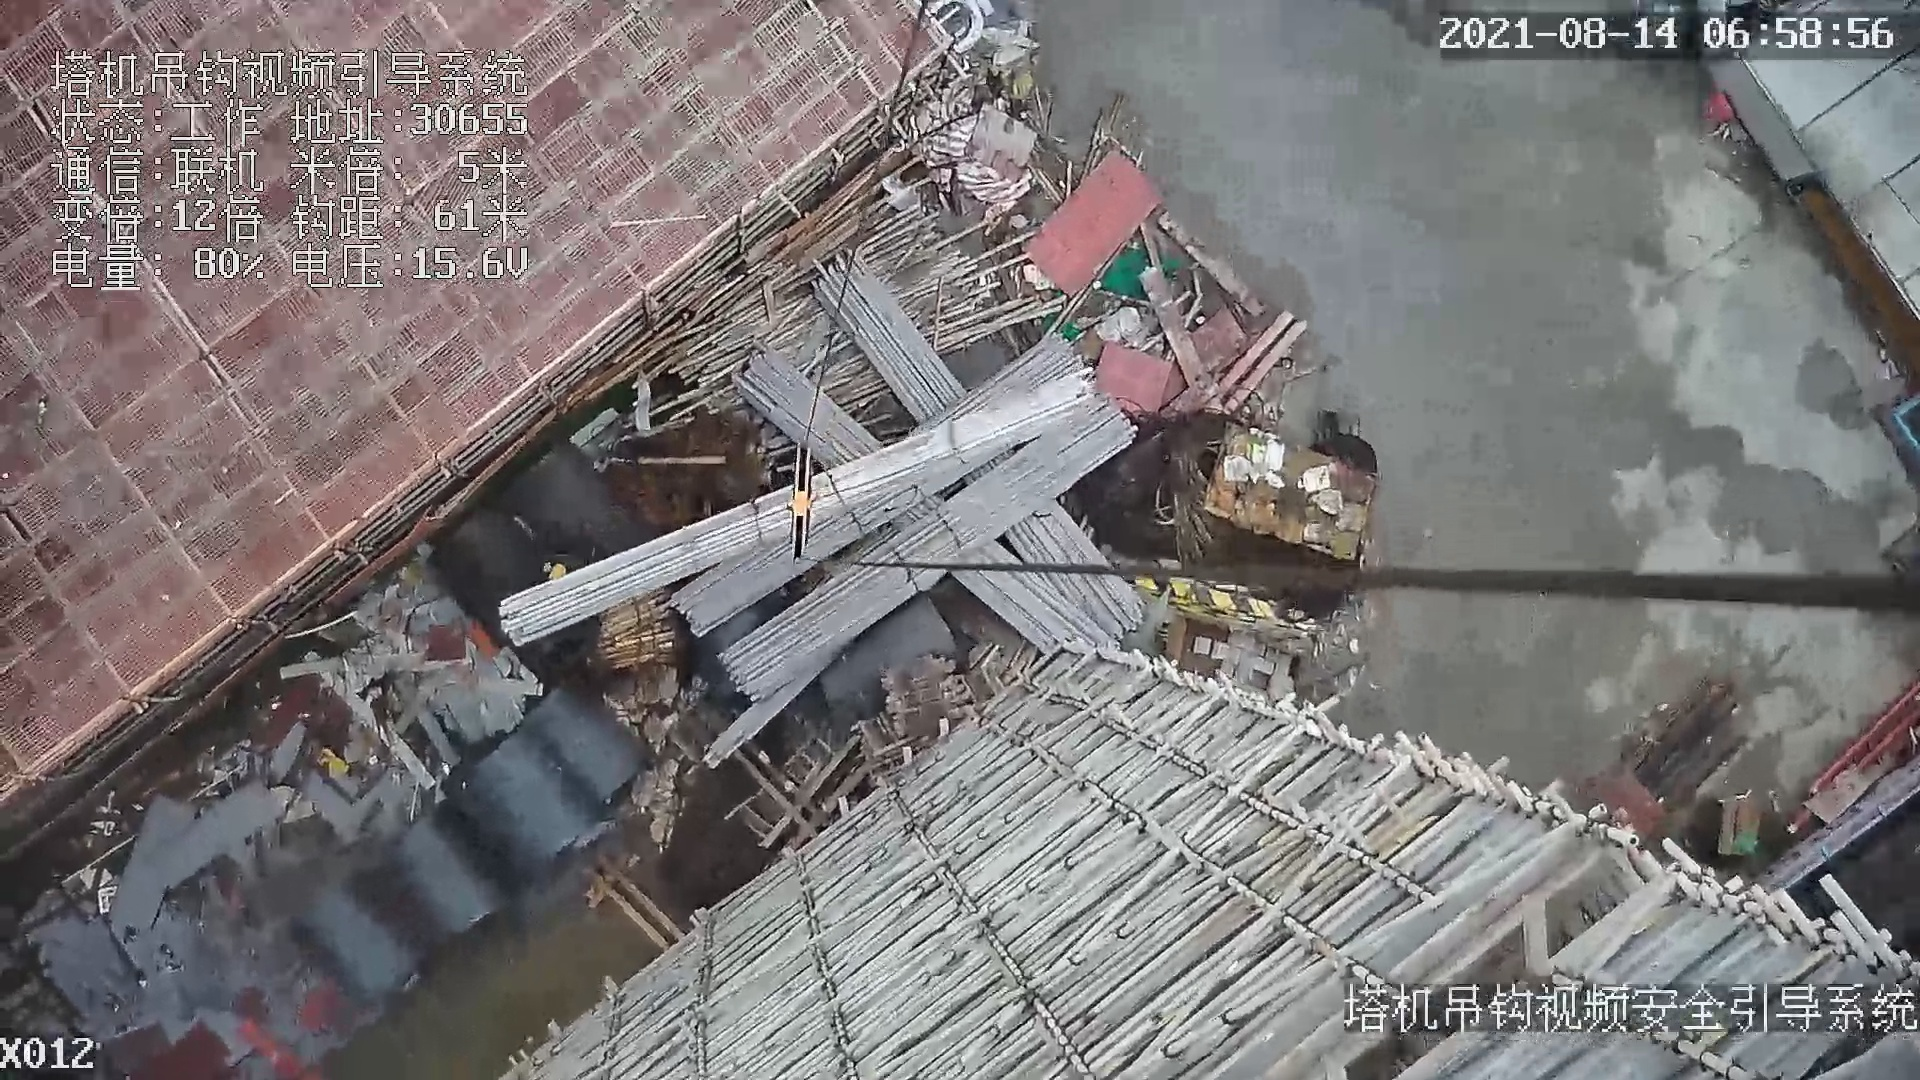helmet: (549, 564, 566, 578)
hook: (778, 436, 818, 563)
rebar: (493, 380, 1092, 646), (719, 404, 1138, 702), (675, 442, 1018, 634), (824, 261, 971, 422), (949, 541, 1121, 658), (1005, 496, 1145, 636), (738, 356, 877, 454)
wood: (600, 591, 667, 673)
